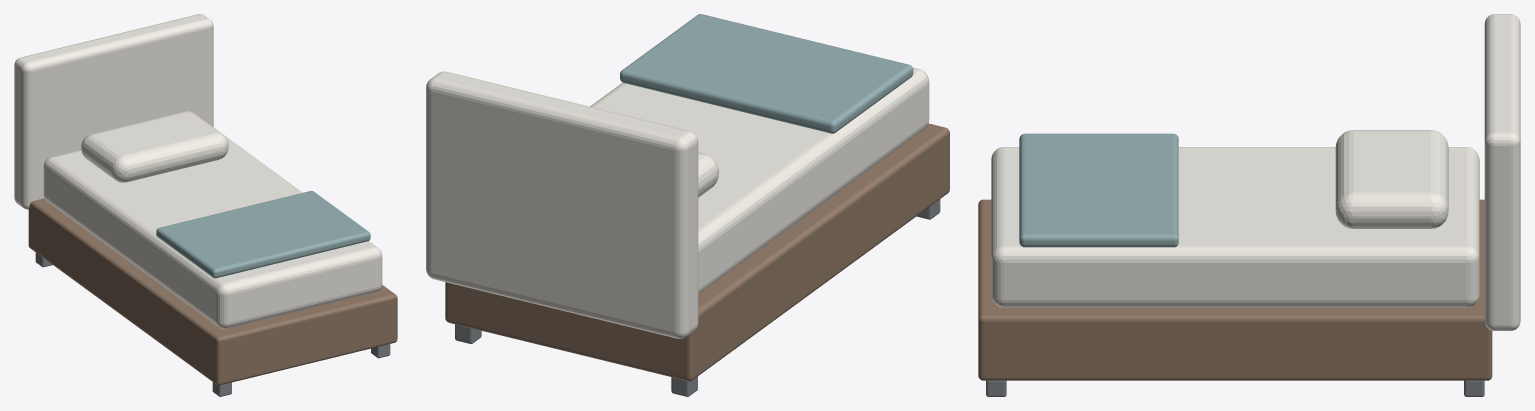
File: bed_single.glb
3 renders of one model, left to right at view 1: azimuth 30°, elevation 25°; view 2: azimuth 150°, elevation 25°; view 3: azimuth 270°, elevation 25°, orthographic. The views are drawn at different scales.
Visible parts, largest first — view 1: bed_single_2, bed_single_0, bed_single_5, bed_single_1; view 2: bed_single_2, bed_single_0, bed_single_5, bed_single_1; view 3: bed_single_2, bed_single_0, bed_single_5, bed_single_1.
Part boxes in pixels (x1,y1,x2,y2): bed_single_2: (14, 14, 382, 328); bed_single_0: (28, 198, 397, 385); bed_single_5: (156, 191, 370, 278); bed_single_1: (35, 252, 390, 396); bed_single_2: (426, 67, 929, 338); bed_single_0: (445, 123, 949, 381); bed_single_5: (620, 14, 913, 133); bed_single_1: (455, 199, 940, 396); bed_single_2: (991, 14, 1520, 330); bed_single_0: (978, 199, 1492, 380); bed_single_5: (1019, 133, 1178, 247); bed_single_1: (986, 380, 1484, 396).
Size of the model in its own units: 1.16 by 1.15 by 2.11.
